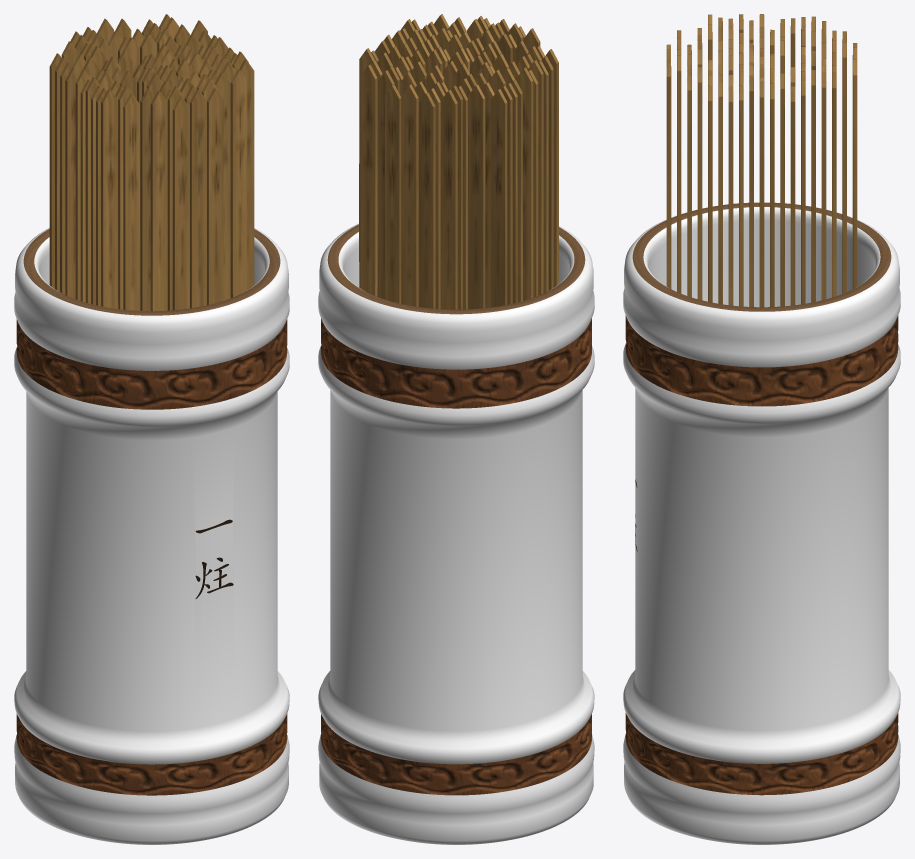
File: yizhu-startup-256-77687eebcafa.glb
3 views of the same model, side by side, from view 1: azimuth 30°, elevation 25°; view 2: azimuth 150°, elevation 25°; view 3: azimuth 270°, elevation 25° (orthographic).
Visible parts, largest first — view 1: Wood_vessel_surface, Timber incised collar 1, Timber incised collar 0, Stick_049, Stick_010, Stick_040, Stick_052, Stick_073, Stick_079, Stick_019, Stick_027, Stick_058 (+12 smaller); view 2: Wood_vessel_surface, Timber incised collar 1, Timber incised collar 0, Stick_089, Stick_021, Stick_013, Stick_044, Stick_064, Stick_034, Stick_085, Stick_086, Stick_028 (+14 smaller); view 3: Wood_vessel_surface, Timber incised collar 1, Timber incised collar 0, Stick_019, Stick_003, Stick_078, Stick_009, Stick_083, Stick_097, Stick_063, Stick_100, Stick_015 (+10 smaller).
Part boxes in pixels (x1=…): Wood_vessel_surface: x1=14, y1=228, x2=289, y2=844; Timber incised collar 1: x1=16, y1=319, x2=287, y2=409; Timber incised collar 0: x1=16, y1=714, x2=287, y2=795; Stick_049: x1=230, y1=69, x2=247, y2=297; Stick_010: x1=150, y1=90, x2=167, y2=311; Stick_040: x1=172, y1=96, x2=189, y2=310; Stick_052: x1=101, y1=88, x2=117, y2=308; Stick_073: x1=190, y1=88, x2=206, y2=308; Stick_079: x1=123, y1=93, x2=139, y2=310; Stick_019: x1=207, y1=88, x2=223, y2=305; Stick_027: x1=65, y1=66, x2=79, y2=298; Stick_058: x1=140, y1=88, x2=154, y2=311; Wood_vessel_surface: x1=318, y1=223, x2=594, y2=844; Timber incised collar 1: x1=321, y1=318, x2=591, y2=408; Timber incised collar 0: x1=321, y1=714, x2=591, y2=795; Stick_089: x1=468, y1=84, x2=485, y2=309; Stick_021: x1=401, y1=84, x2=418, y2=306; Stick_013: x1=490, y1=89, x2=507, y2=307; Stick_044: x1=384, y1=84, x2=401, y2=303; Stick_064: x1=361, y1=64, x2=377, y2=296; Stick_034: x1=441, y1=89, x2=457, y2=309; Stick_085: x1=419, y1=92, x2=435, y2=308; Stick_086: x1=516, y1=67, x2=533, y2=300; Stick_028: x1=378, y1=70, x2=394, y2=299; Wood_vessel_surface: x1=623, y1=202, x2=900, y2=844; Timber incised collar 1: x1=625, y1=315, x2=898, y2=406; Timber incised collar 0: x1=625, y1=713, x2=898, y2=795; Stick_019: x1=666, y1=61, x2=671, y2=288; Stick_003: x1=821, y1=72, x2=826, y2=300; Stick_078: x1=759, y1=82, x2=764, y2=307; Stick_009: x1=790, y1=86, x2=795, y2=305; Stick_083: x1=728, y1=86, x2=733, y2=305; Stick_097: x1=842, y1=42, x2=846, y2=293; Stick_063: x1=677, y1=55, x2=681, y2=293; Stick_100: x1=780, y1=73, x2=784, y2=306; Stick_015: x1=697, y1=67, x2=701, y2=300.
Size of the model in its own units: 0.1288 by 0.381 by 0.1288.
6 materials, 4 textured.
